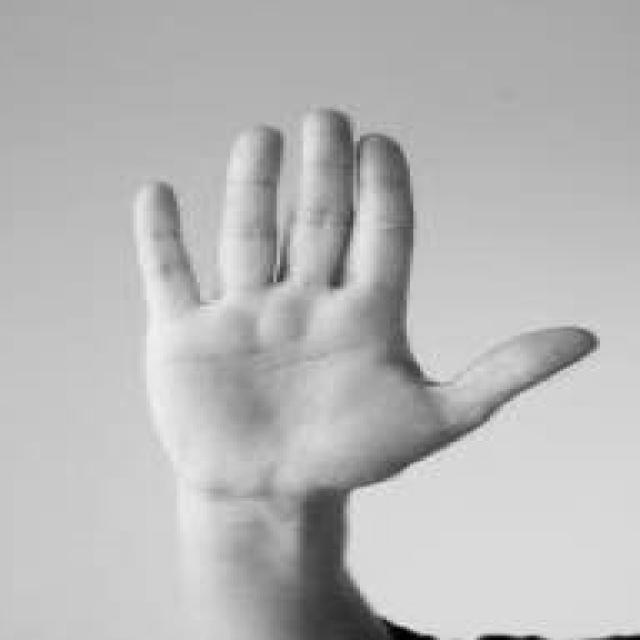stop: (118, 98, 608, 513)
